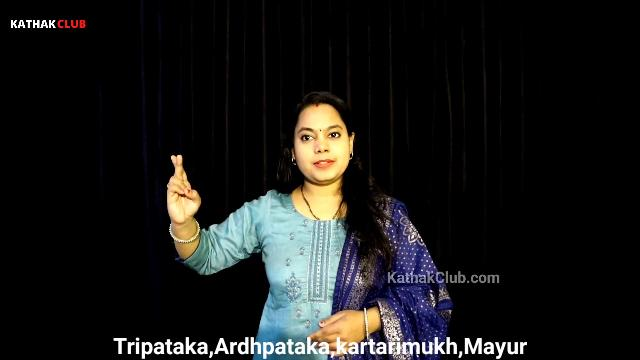kartarimukh: (140, 131, 232, 274)
